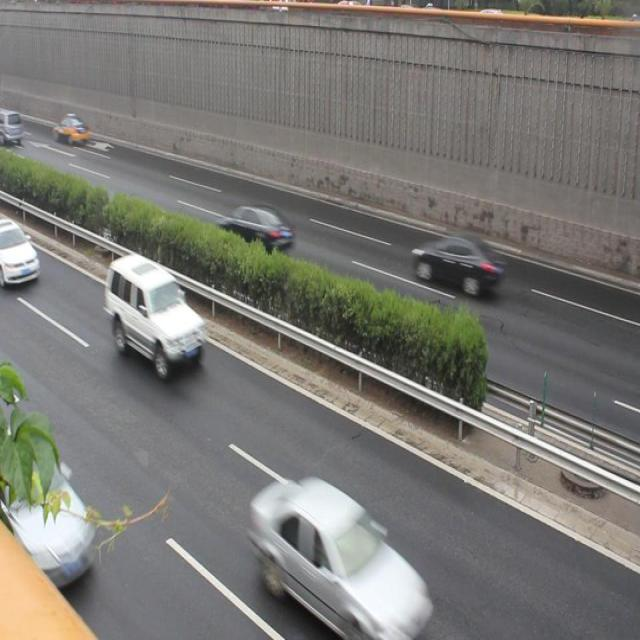car: (253, 480, 430, 640), (0, 423, 94, 582), (104, 256, 204, 370), (411, 232, 504, 298), (214, 204, 294, 261), (1, 217, 38, 289)
